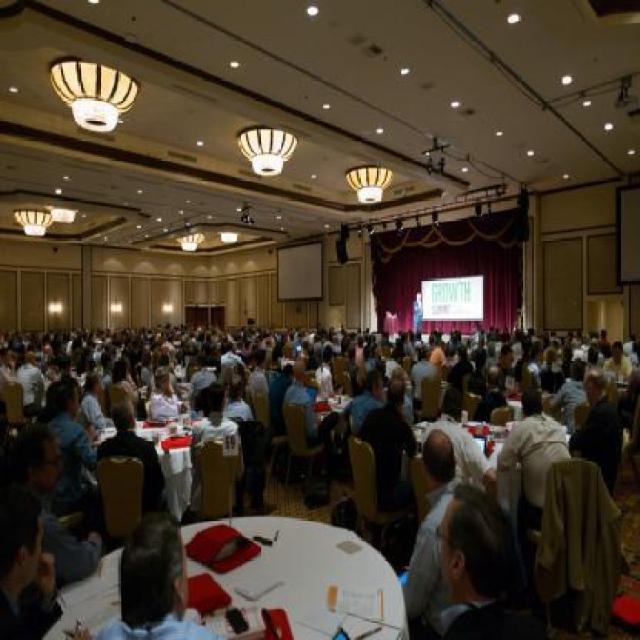Person: (0, 319, 638, 638), (96, 507, 227, 639)
